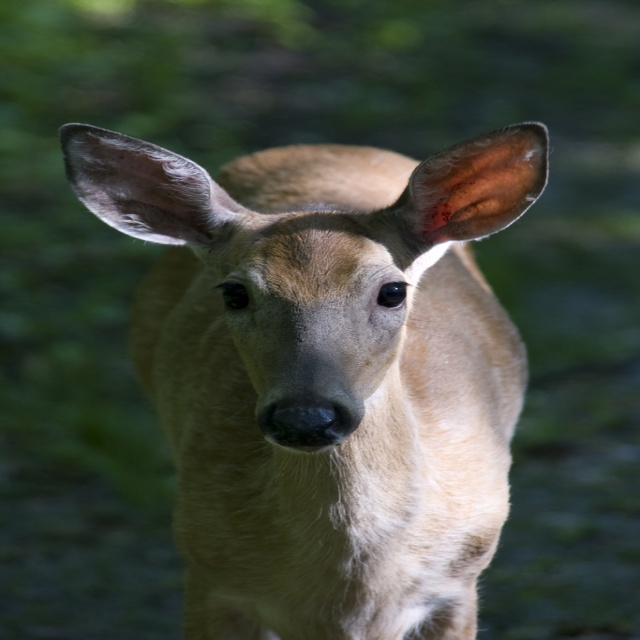Deer: (58, 122, 547, 640)
